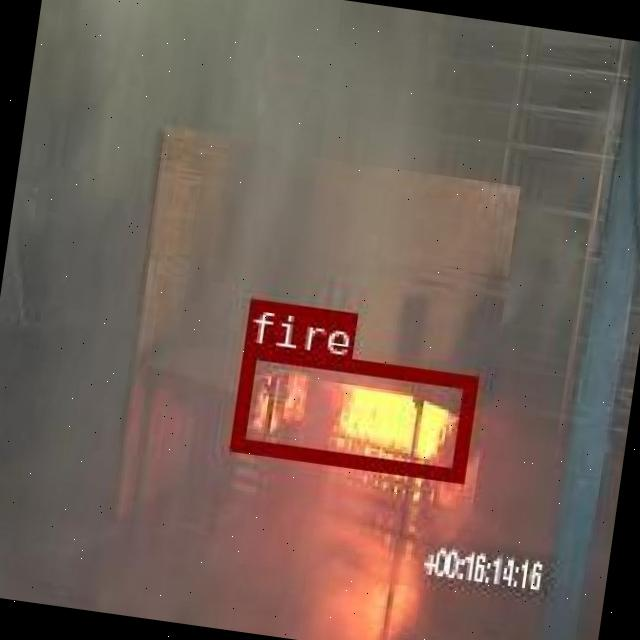fire: (230, 344, 474, 480)
